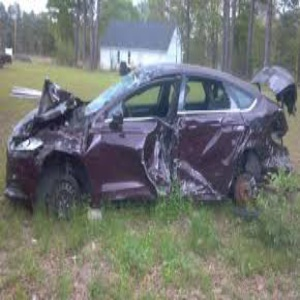door: (125, 130, 233, 185)
